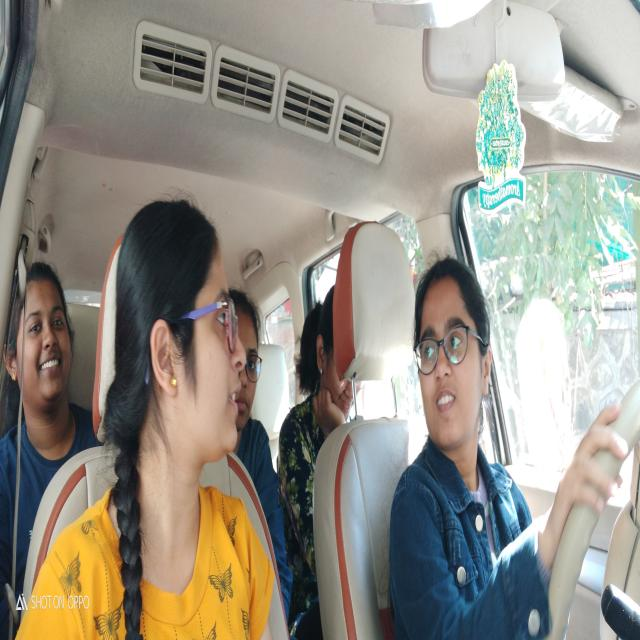LeftRight: (401, 256, 493, 473)
person: (109, 178, 249, 552), (15, 258, 77, 431), (229, 280, 267, 452), (306, 298, 359, 420)
talking: (224, 384, 247, 421), (432, 386, 462, 412)
